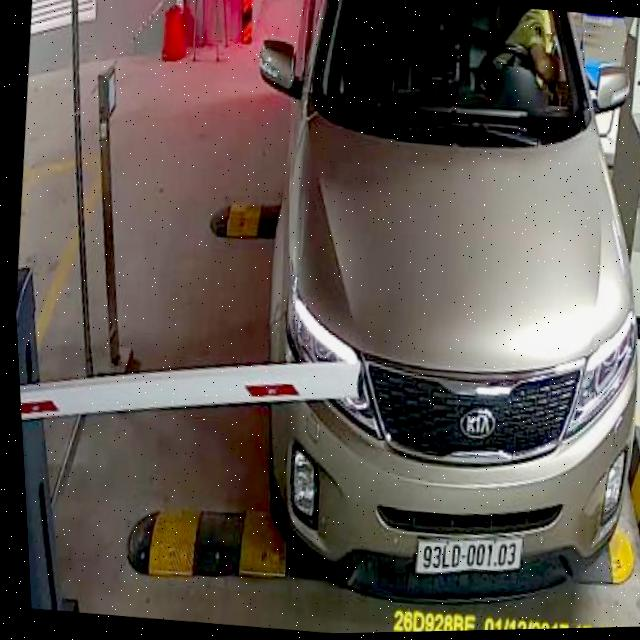car: (196, 0, 640, 634)
plate: (411, 527, 527, 589)
